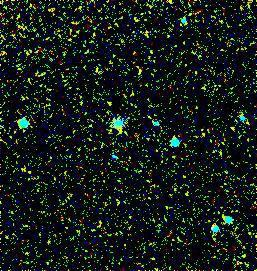star: (95, 87, 125, 117)
